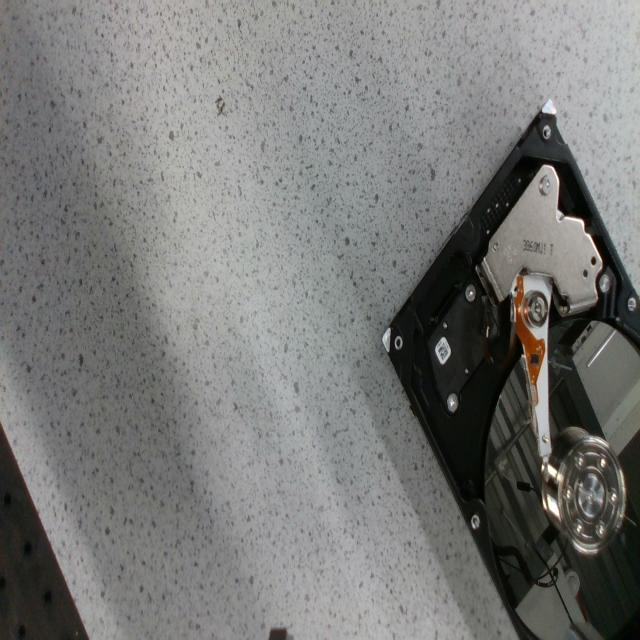actuator arm: (511, 273, 551, 464)
actuator axis: (526, 292, 548, 326)
case: (382, 100, 640, 639)
magnet: (476, 164, 602, 316)
pcb connector: (428, 283, 486, 412)
platter: (485, 320, 640, 639)
platter holder: (557, 435, 626, 555)
screw: (538, 175, 550, 195), (446, 393, 458, 412), (597, 521, 607, 539), (563, 484, 573, 502), (465, 284, 476, 300), (574, 520, 584, 537), (575, 453, 585, 470), (609, 488, 618, 506), (599, 456, 607, 470)
